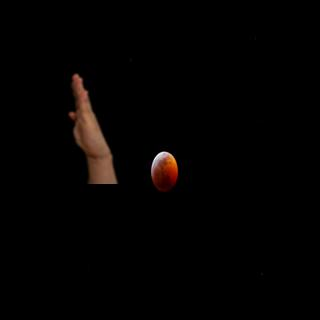RIGHT: (65, 70, 112, 158)
